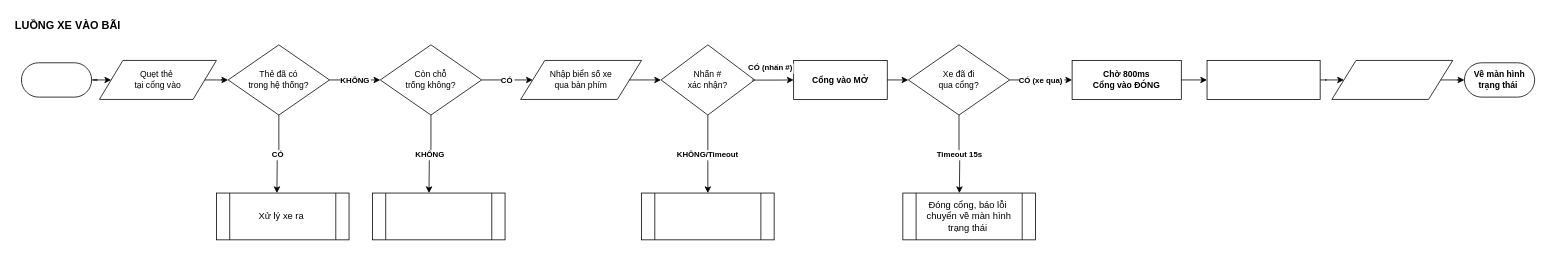
This 1548x253 diagram has some shape labels left out. Each missing label, with the centre of its shape:
Bãi đã đầy, cảnh báo chuyển về màn hình trạng thái: pixel 438 216
BẮT ĐẦU: pixel 56 79
Cập nhật màn hình (chỗ trống giảm): pixel 1392 79
Hủy phiên chuyển về màn hình trạng thái: pixel 707 216
Lưu Thẻ + Biển số vào Flash: pixel 1263 79
